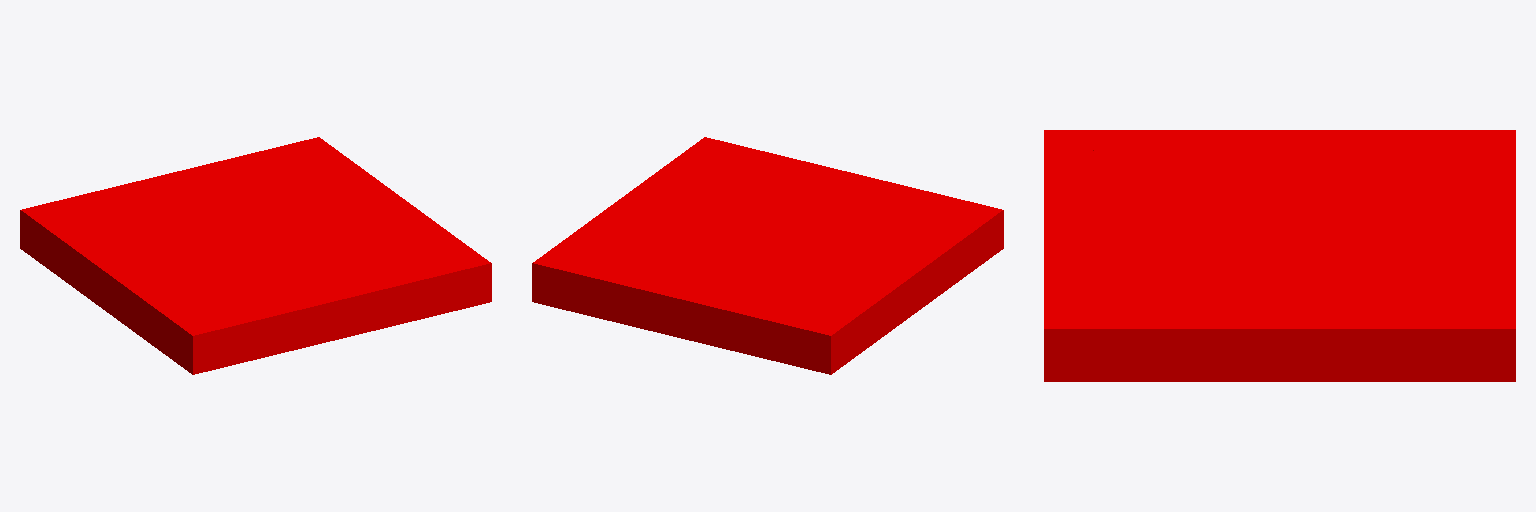
robot.urdf — test:
<?xml version="1.0"?>
<robot name="test">
    <material name="red">
        <color rgba="1.0 0 0 1.0"/>
    </material>
    <material name="green">
        <color rgba="0 1.0 0 1.0"/>
    </material>
    <material name="blue">
        <color rgba="0 0 1.0 1.0"/>
    </material>
    <material name="white">
        <color rgba="1.0 1.0 1.0 1.0"/>
    </material>

<link name="baseLink">
<inertial>
    <origin xyz="0.0 0.0 0.0" rpy="0.0 0.0 0.0"/>
    <inertia ixx="0.0" ixy="0.0" ixz="0.0" iyy="0.0" iyz="0.0" izz="0.0"/>
    <mass value="0.0"/>
</inertial>
<visual name='cube'>
   <origin xyz="0.0 0.0 0.0" rpy="0.0 0.0 0.0"/>
   <geometry>
       <box size="0.4 0.4 0.05"/>
   </geometry>
   <material name="red"/>
</visual>
</link>

</robot>

--- Facts derived from the render (not from the file) ---
3 views of the same robot in one strip: view 1: azimuth 30°, elevation 25°; view 2: azimuth 150°, elevation 25°; view 3: azimuth 270°, elevation 25° (orthographic).
Robot: test — 1 links, 0 joints (none); root link baseLink; default pose: every joint at zero.
Links seen in each view (by area): view 1: baseLink; view 2: baseLink; view 3: baseLink.
Boxes of the visible links, x1,y1,x2,y2 form: baseLink: [20, 137, 491, 374]; baseLink: [532, 137, 1003, 374]; baseLink: [1044, 130, 1515, 381].
Bounding box of the posed robot: 0.4 × 0.4 × 0.05 m (x, y, z).
Geometry: primitives only (box / cylinder / sphere), no mesh files.